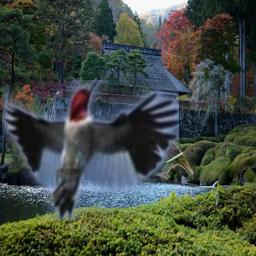Sparrow: (130, 125, 194, 180)
Woodpecker: (2, 80, 179, 220)
